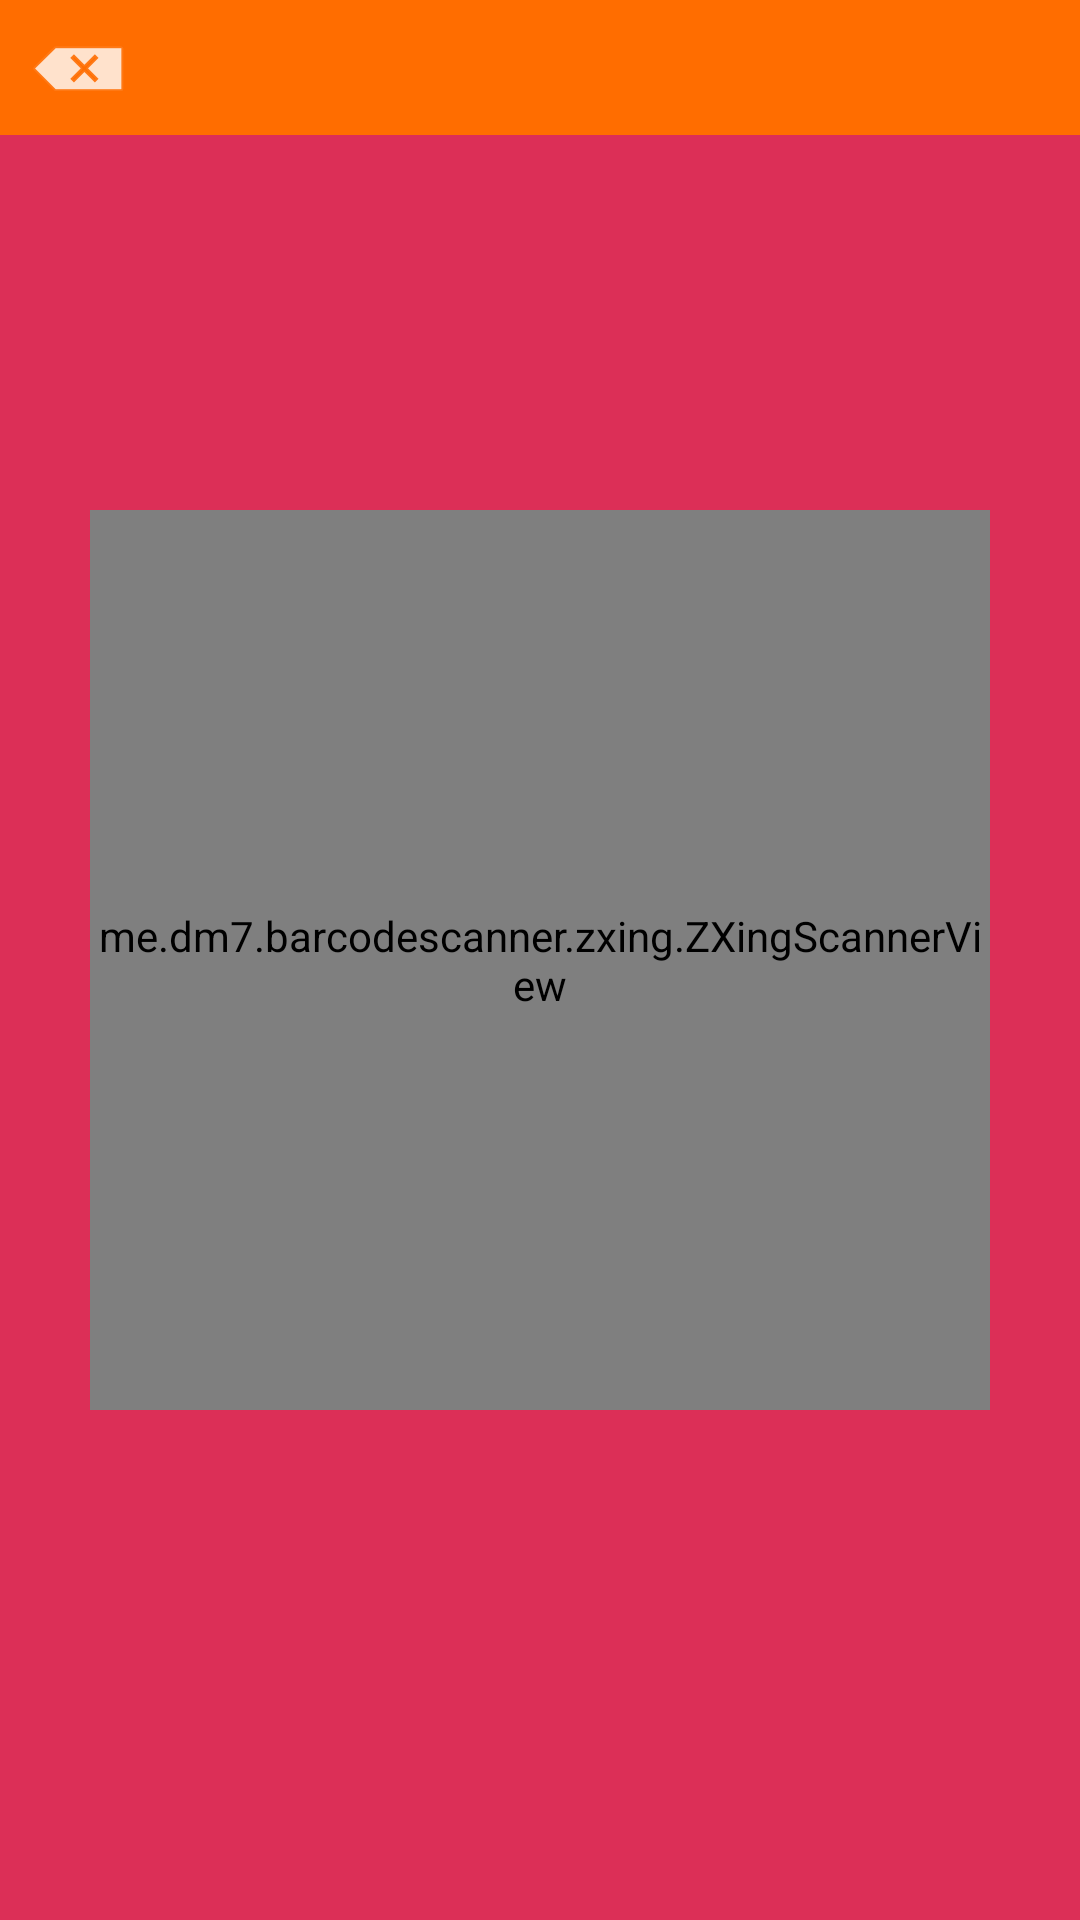

Icon click points for this 1080w x 1920h phone screenshot, format (x,y):
delete: (78,69)
